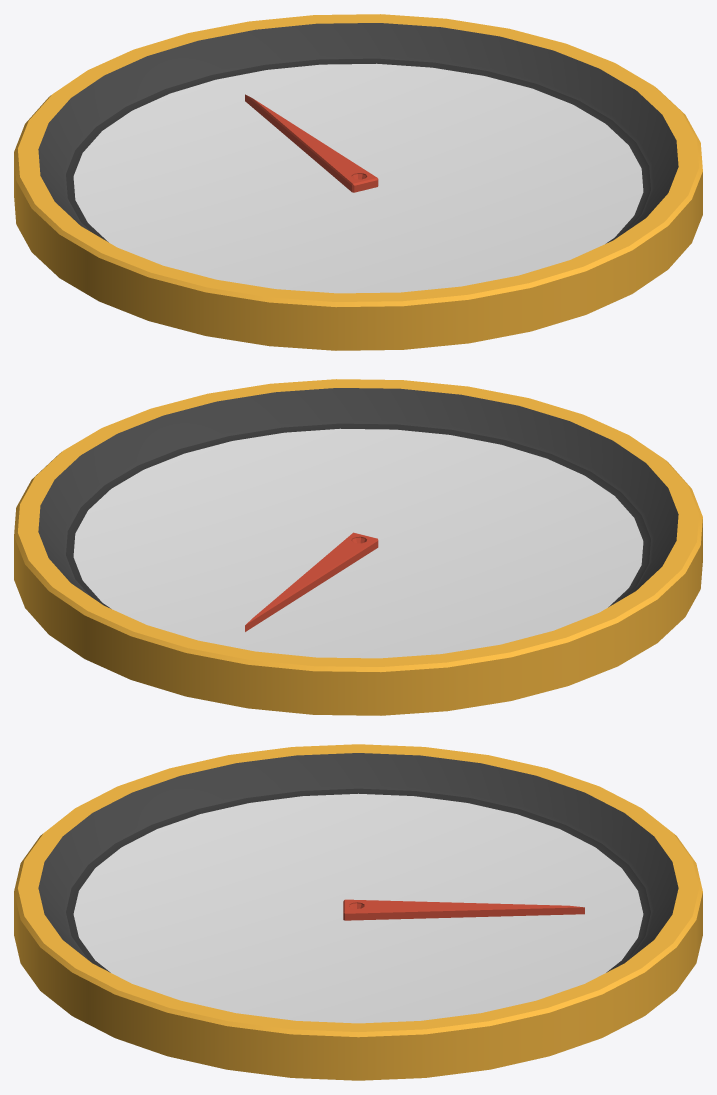
File: Compass.fbx
3 views of the same model, one above another, from view 1: azimuth 30°, elevation 25°; view 2: azimuth 150°, elevation 25°; view 3: azimuth 270°, elevation 25° (orthographic).
Visible parts, largest first — view 1: cmps, cmps.001; view 2: cmps, cmps.001; view 3: cmps, cmps.001.
Boxes of the visible parts, bbox=[...] form: cmps: bbox=[14, 14, 702, 350]; cmps.001: bbox=[245, 94, 378, 192]; cmps: bbox=[14, 379, 702, 715]; cmps.001: bbox=[245, 532, 378, 631]; cmps: bbox=[14, 744, 702, 1080]; cmps.001: bbox=[343, 899, 584, 920].
Bounding box in the file's own units: 200 × 15.05 × 200.
